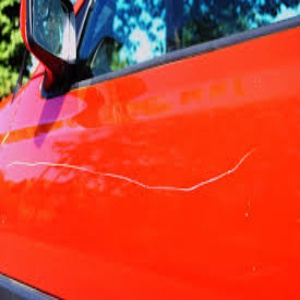door_scratch: (4, 110, 265, 234)
